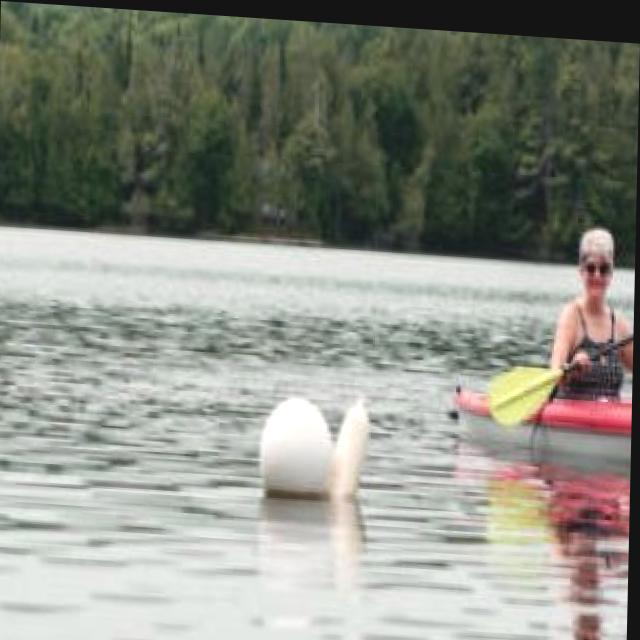kayak: (454, 380, 634, 453)
